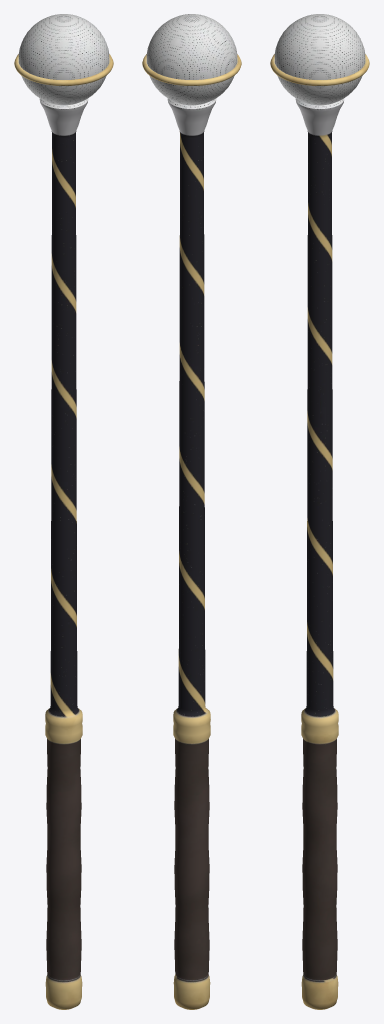
The model's file is mic_cane.glb.
The picture shows the model from 3 angles, left to right: view 1: azimuth 90°, elevation 25°; view 2: azimuth 150°, elevation 25°; view 3: azimuth 270°, elevation 25°; orthographic projection.
Visible parts, largest first — view 1: mic_cane; view 2: mic_cane; view 3: mic_cane.
Part boxes in pixels (x1,y1,x2,y2): mic_cane: (14, 14, 113, 1009); mic_cane: (142, 14, 241, 1009); mic_cane: (270, 14, 369, 1009).
Bounding box in the file's own units: 0.0946 × 1.04 × 0.0946.
1 material, 1 textured.
